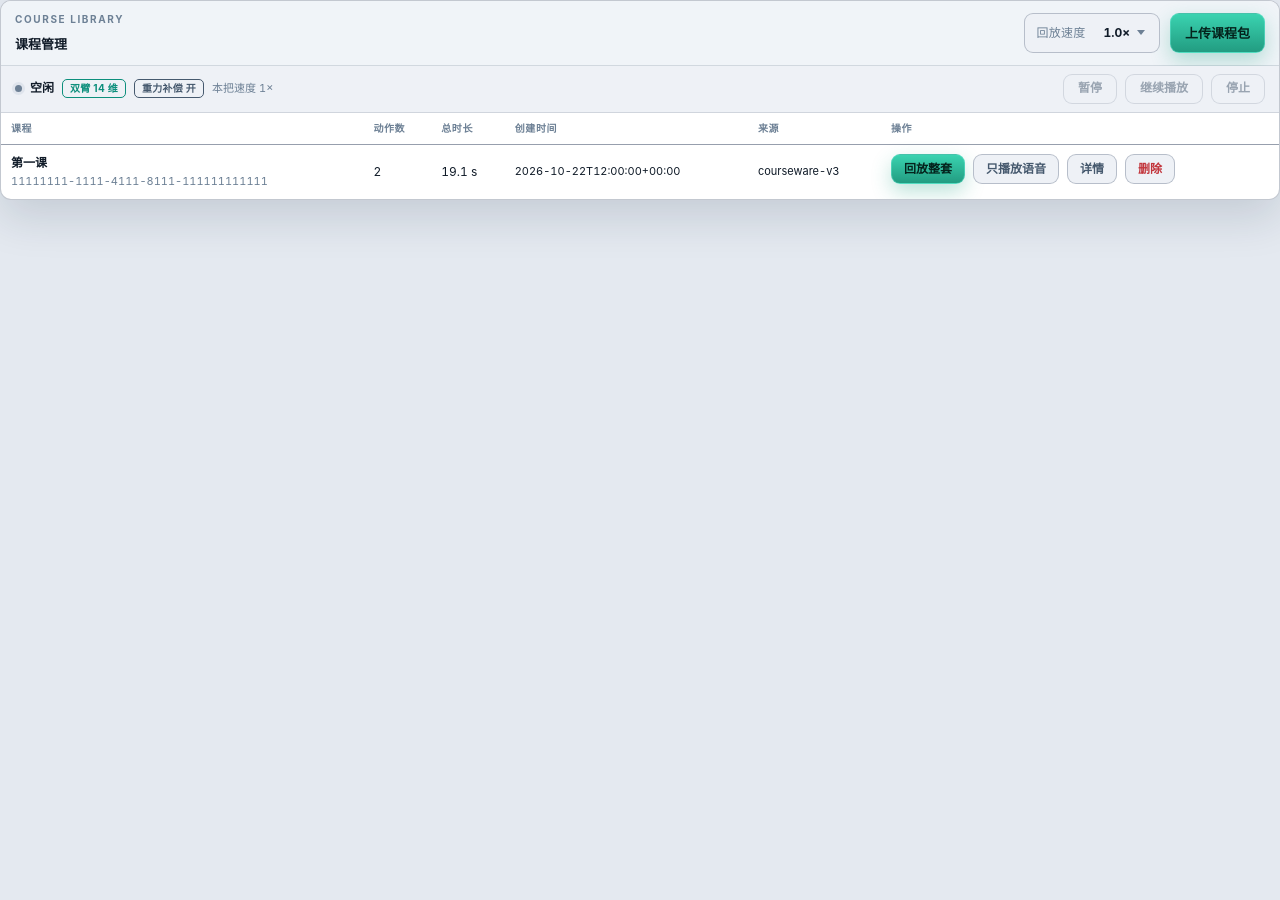
it: 课程管理 › 在确认框上取消就不发回放请求
Expected: the text "第一课" is shown, [11,155,47,170]
Step 1. Click the button "回放整套" → {"x": 928, "y": 169}, box [891,154,965,184]
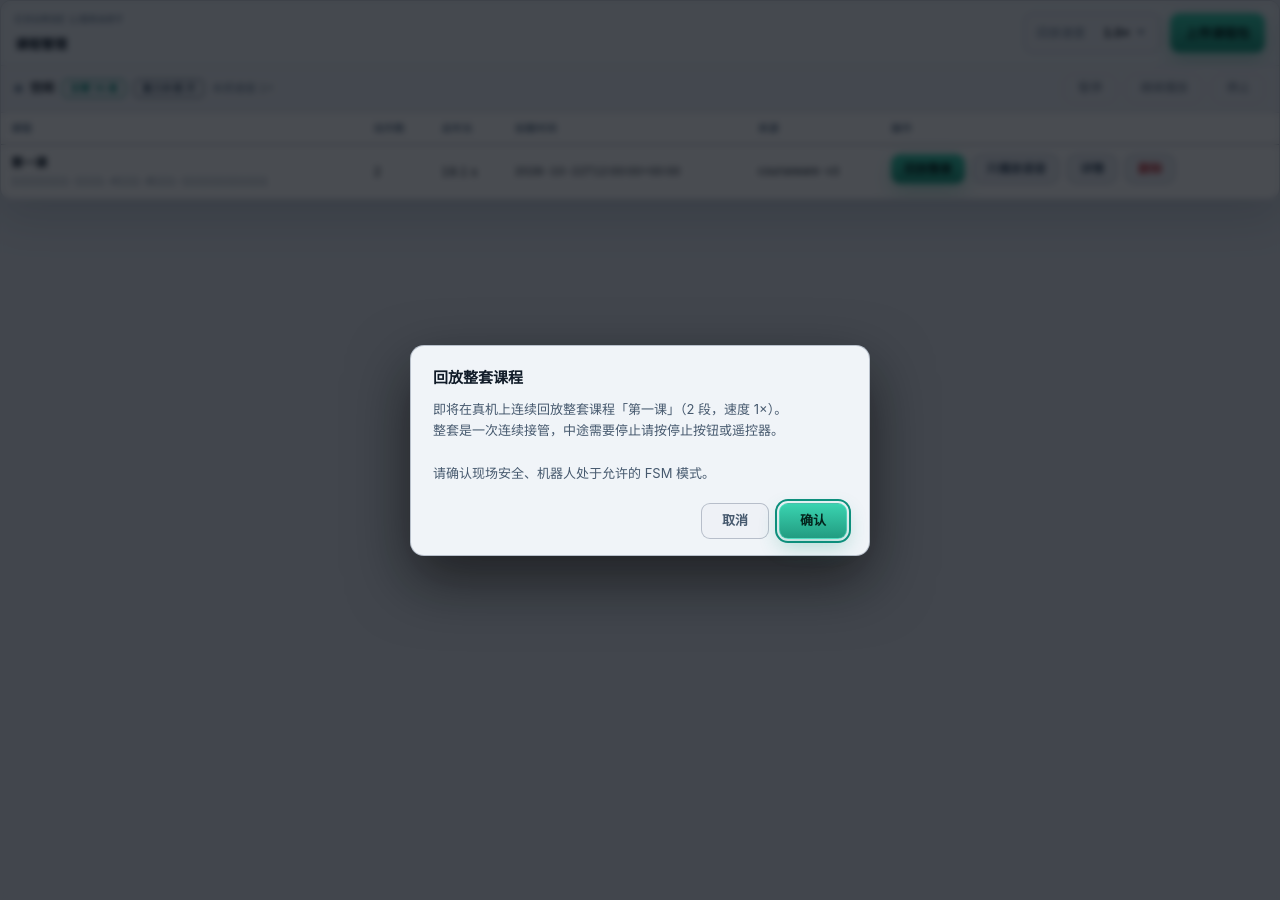
Step 2. Click the button "取消" → {"x": 735, "y": 520}, box [701,502,769,538]
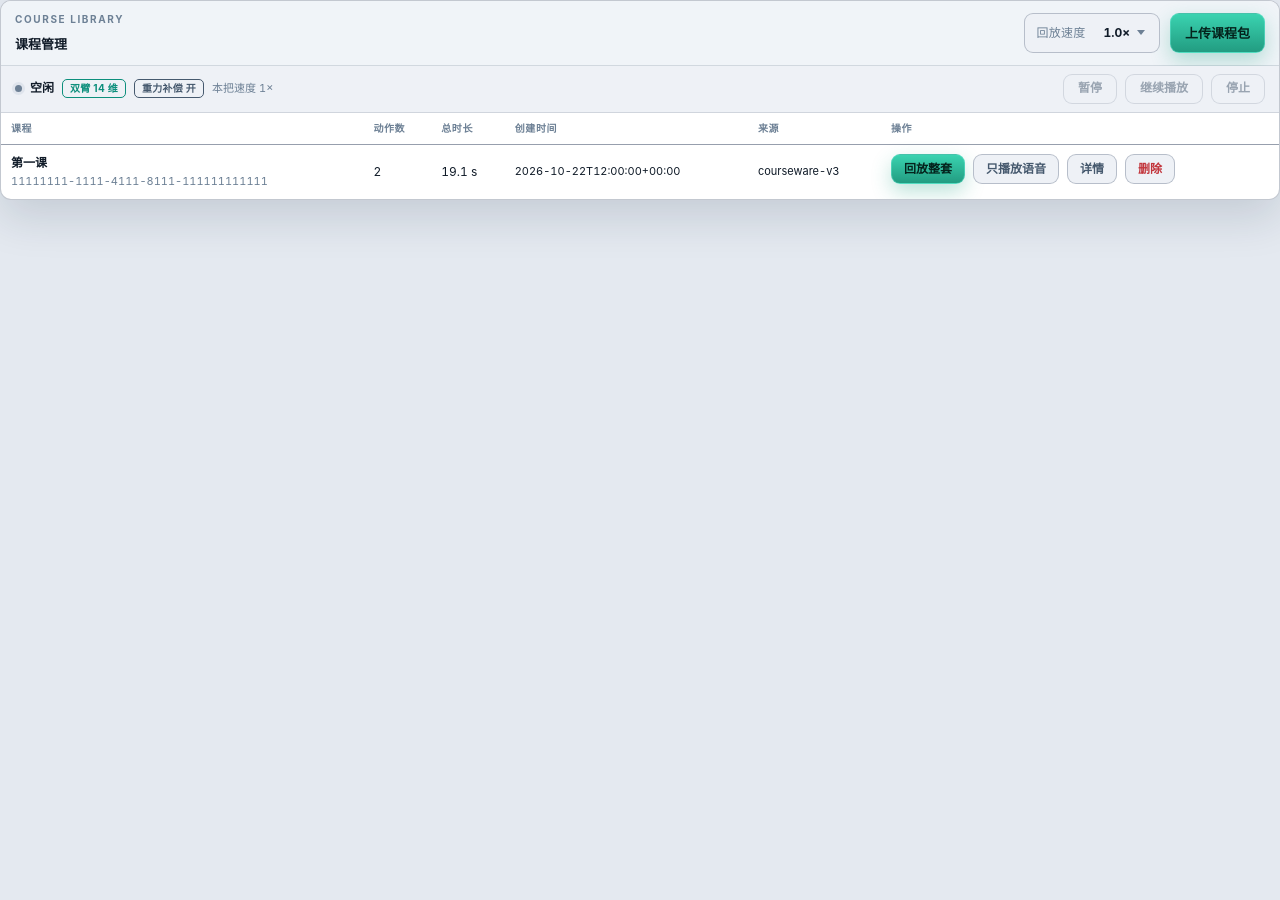
Now the dialog is gone
